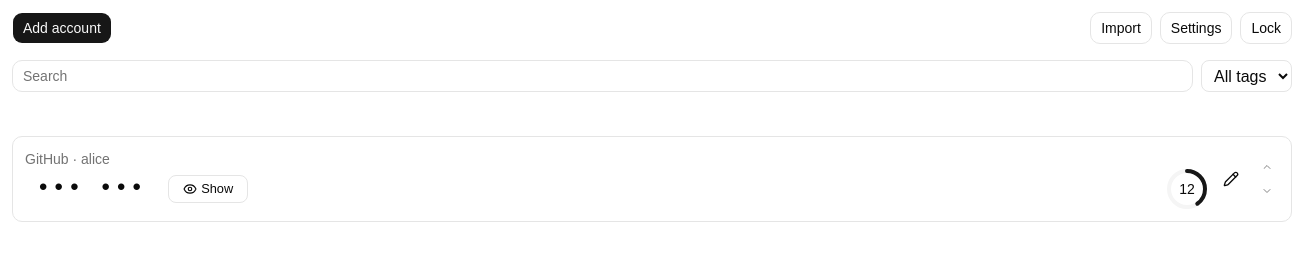
Scenario: OpenVault › opens the add chooser and returns to the list on cancel
The image size is (1304, 273).
Click the button "Add account": (62, 28) [12,12,112,44]
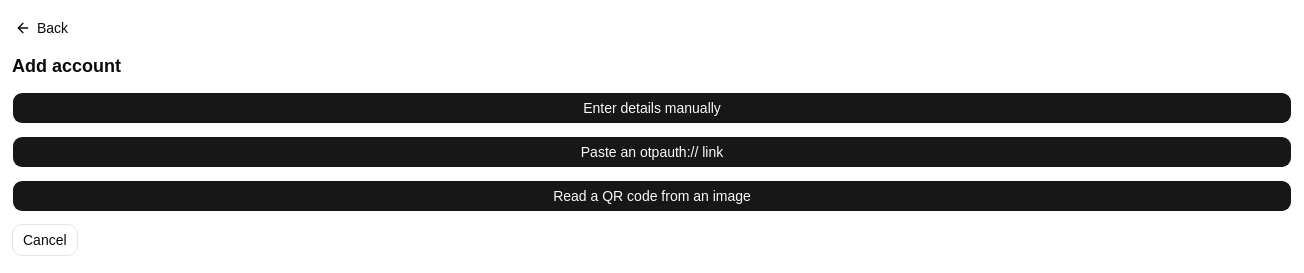
Result: the element "Add account" is shown
Click the button "Cancel": (45, 240) [12,224,78,256]
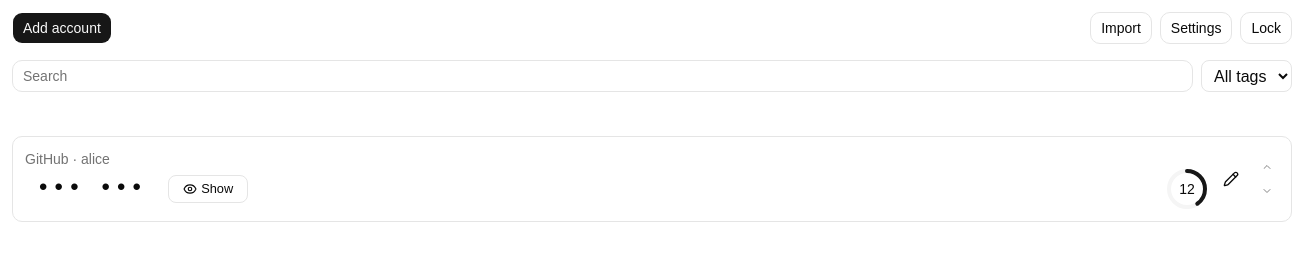
Result: the text "GitHub · alice" is shown at [25,151,110,167]
